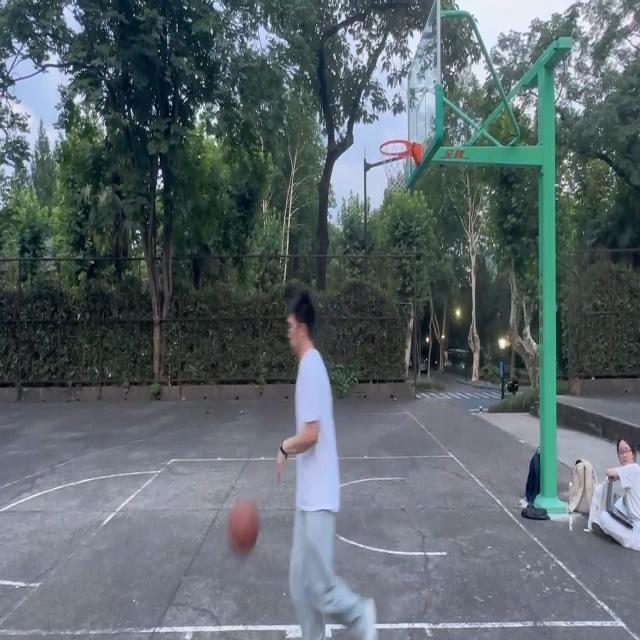basketball: (376, 141, 422, 193)
rim: (222, 496, 262, 559)
